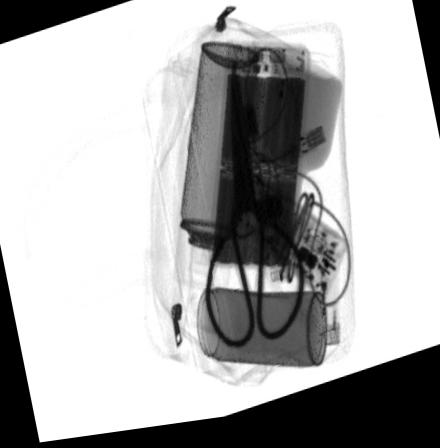Lighter: (312, 269, 339, 348)
Powerbank: (211, 70, 309, 281)
Scissors: (204, 67, 305, 357)
Sprayer: (173, 47, 260, 304)
